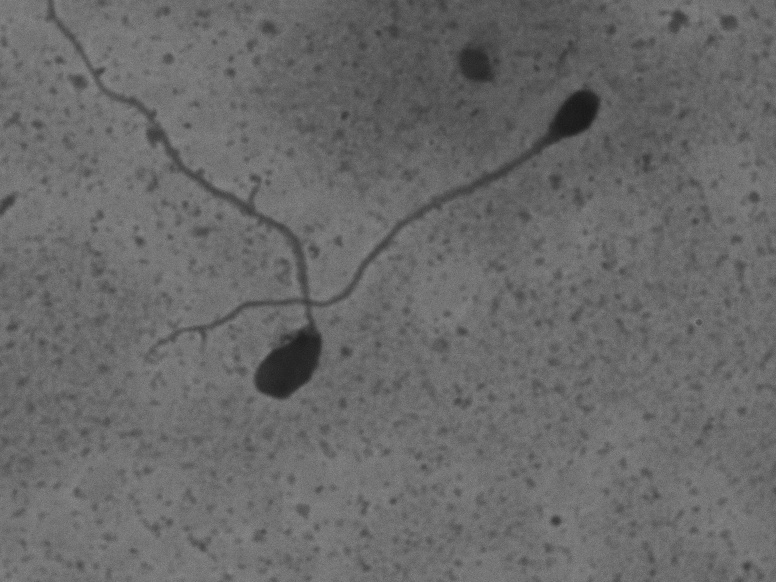Abnormal: (128, 77, 615, 371), (55, 15, 338, 415)
